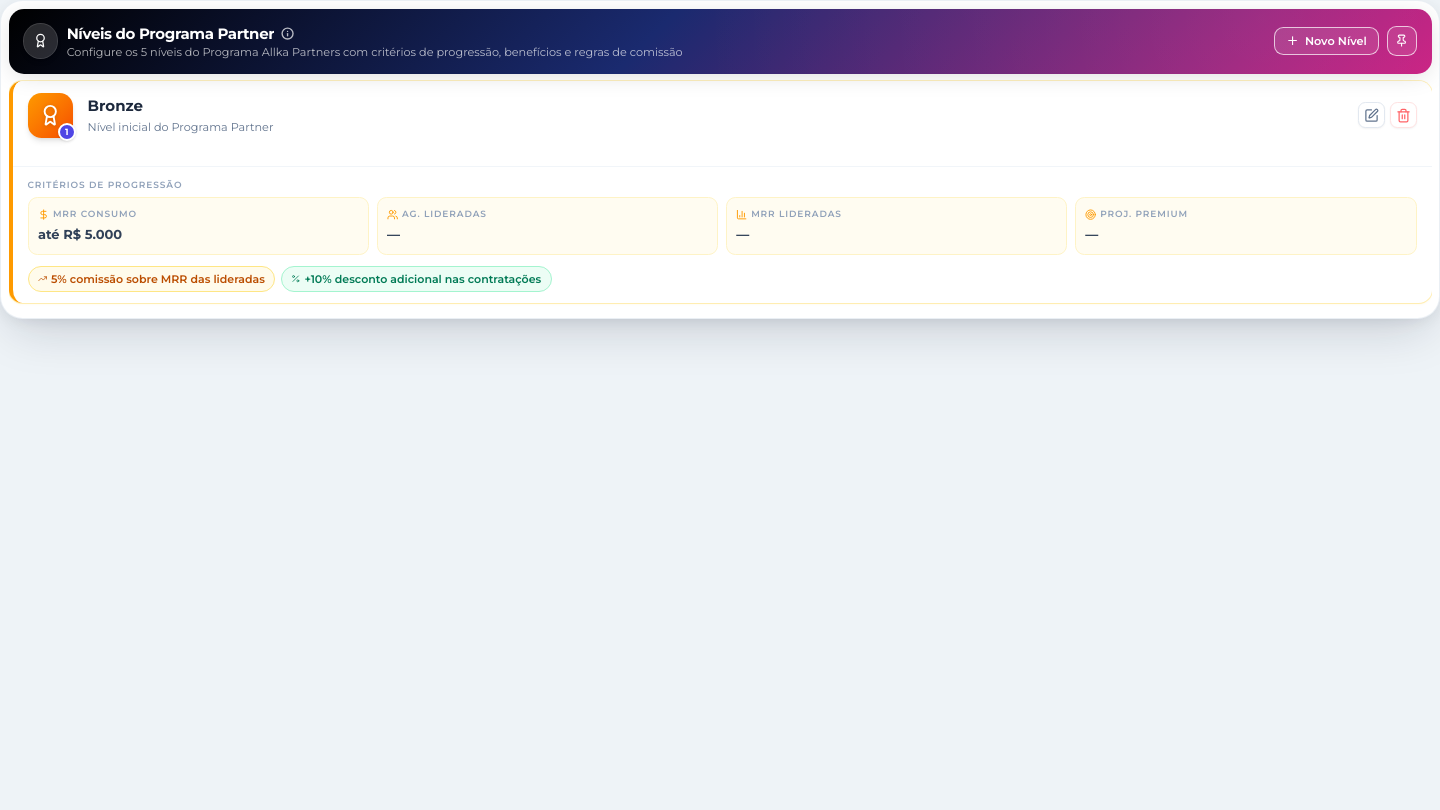
Admin > Níveis — exclusão de nível (confirmação dupla) › 409 (vínculo existente) mostra mensagem amigável e mantém o nível
Click the button named "excluir nível": click(1403, 115) [1390,102,1417,128]
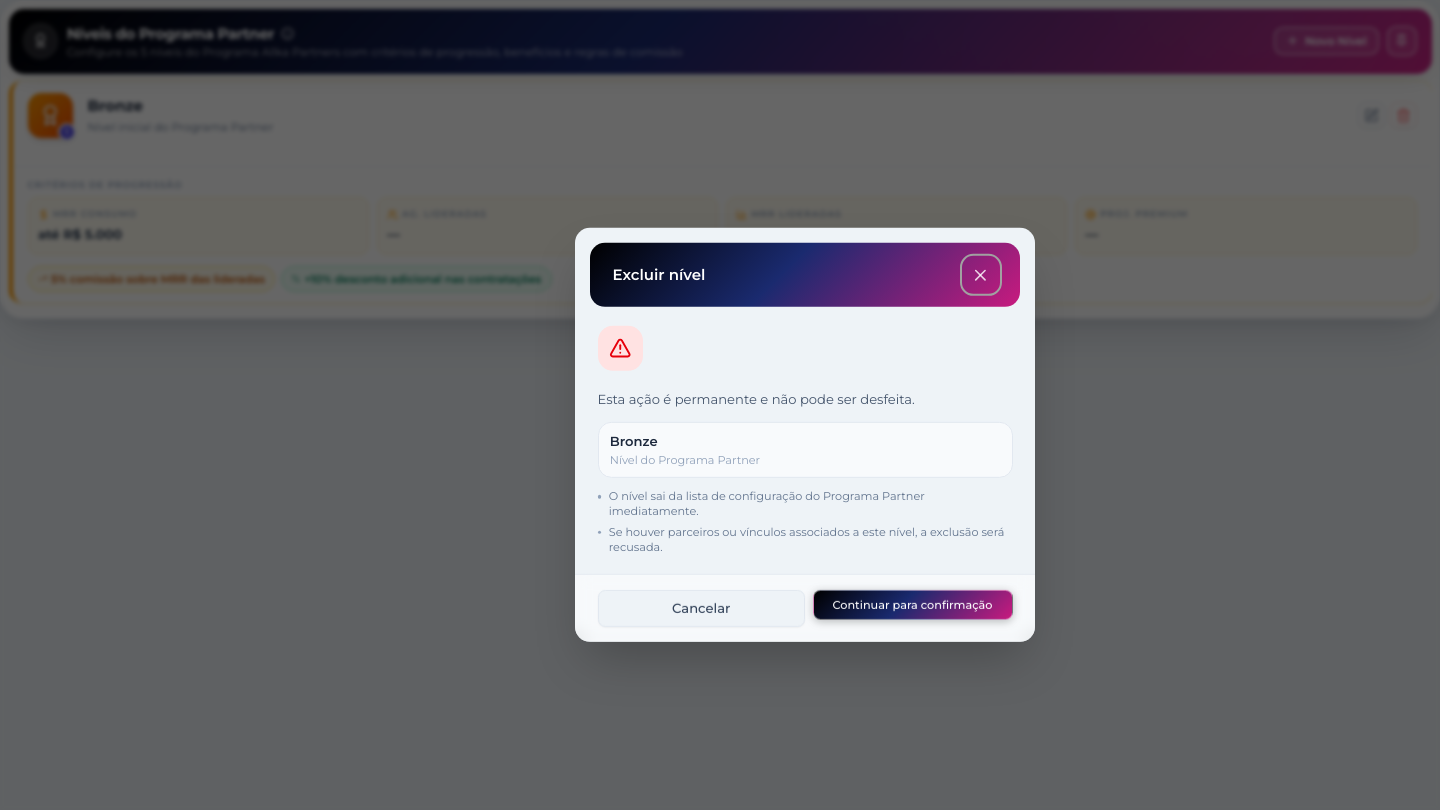
Click the button "Continuar para confirmação": click(912, 605) [812,590,1012,620]
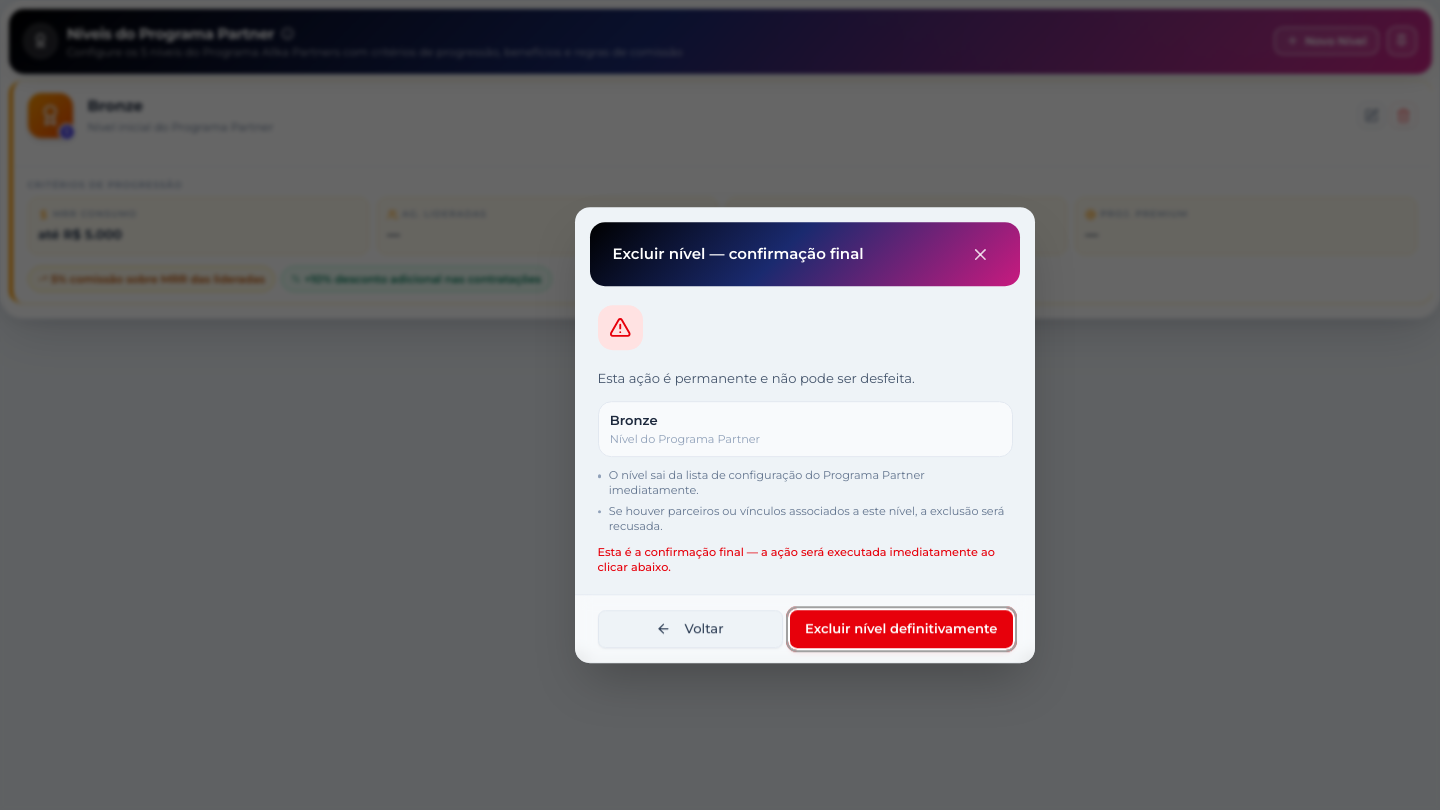
Click the button "Excluir nível definitivamente": click(901, 629) [790,610,1012,648]
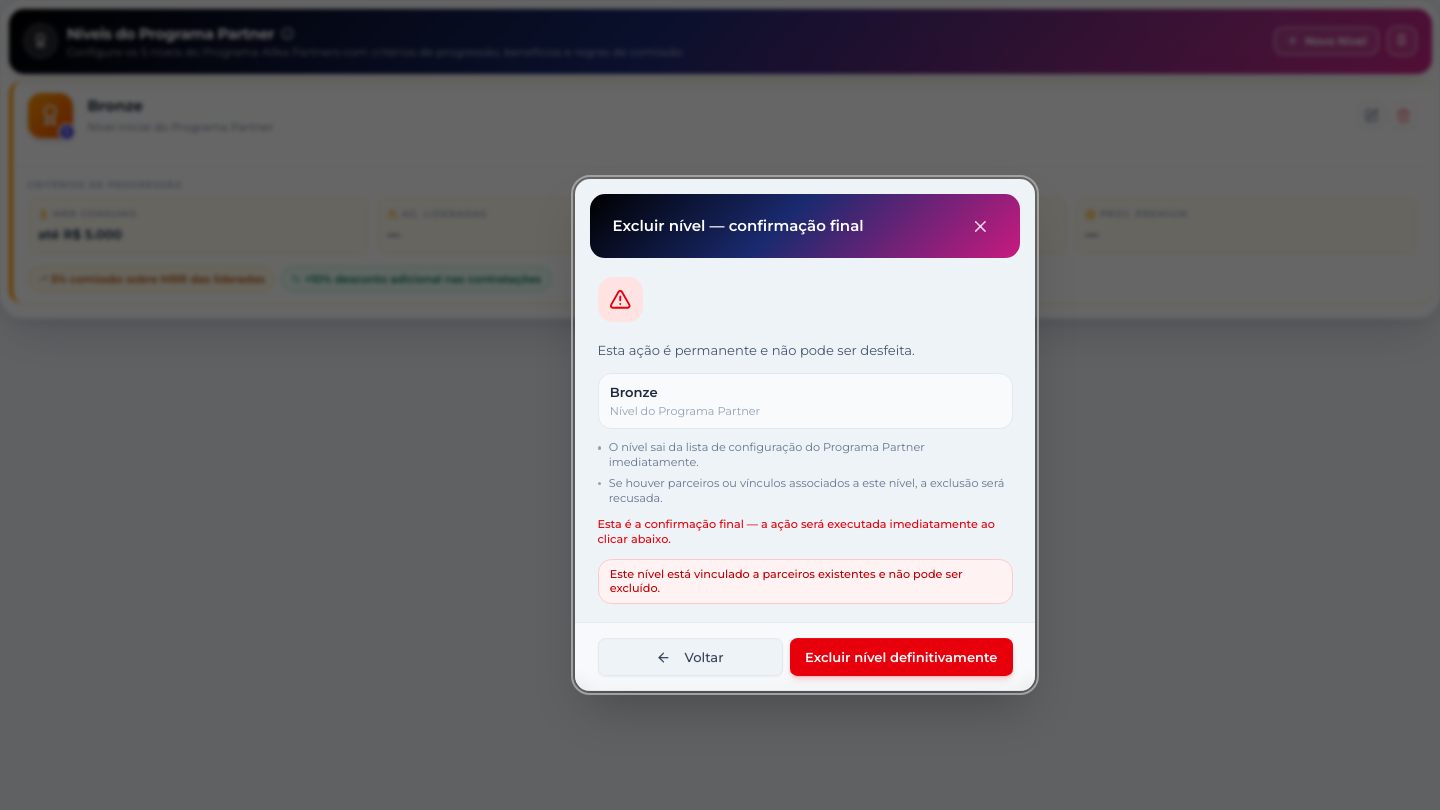
Expected: the heading "Bronze" is shown, [88,95,143,118]
Result: the text "Este nível está vinculado a parceiros existentes e não pode ser excluído." is shown at [610,567,1000,595]
